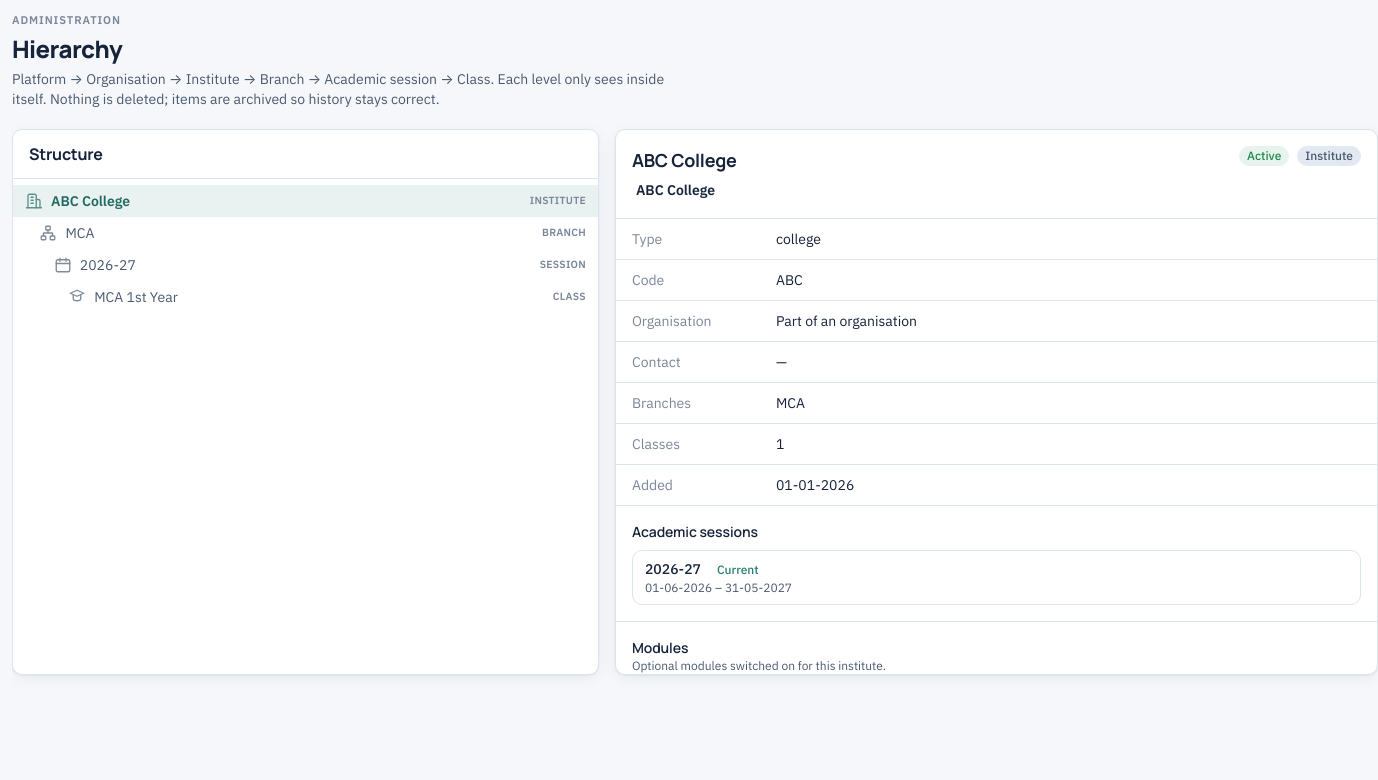
it: InstitutesPage › enrols a student in a class and shows them on the roster
Click the list item "MCA 1st Year Class". click: (136, 297)
box: [13,281,598,313]
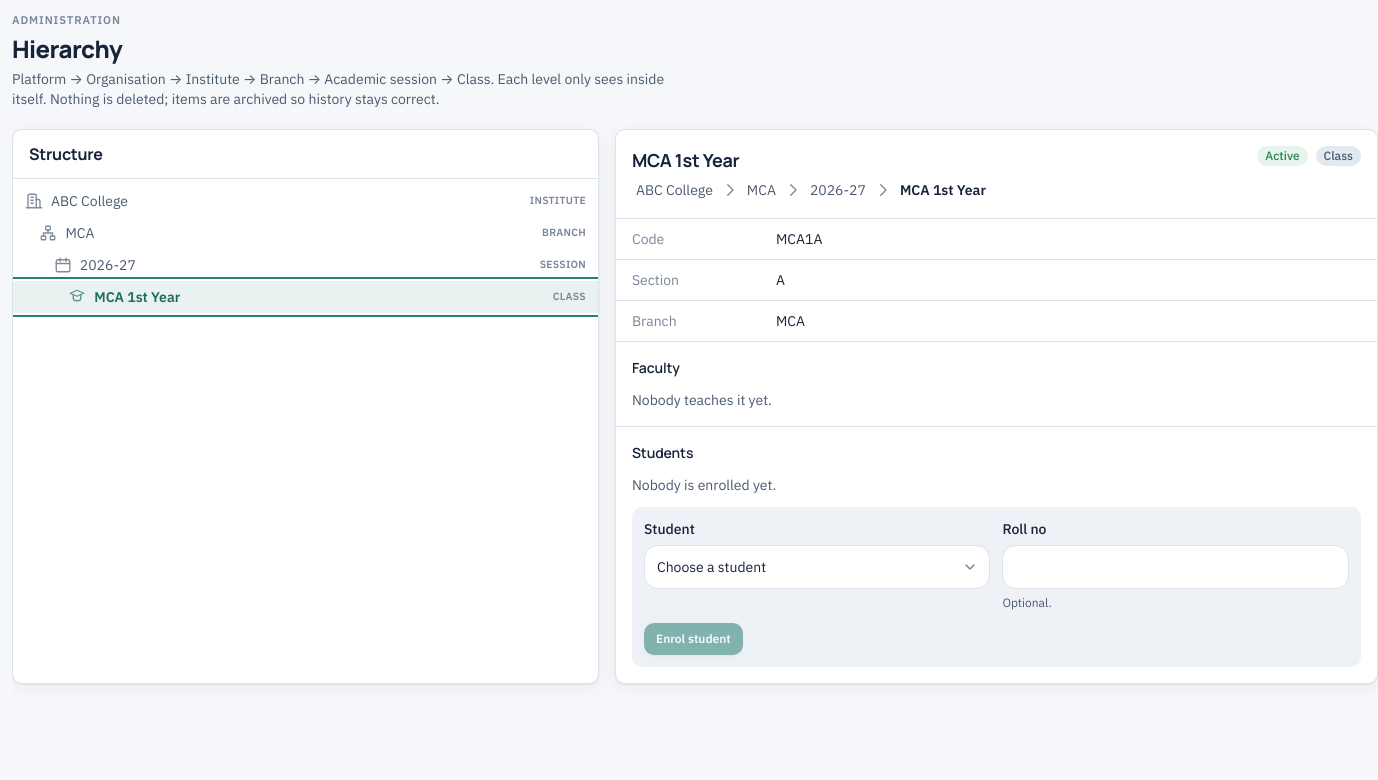
Result: the text "Nobody is enrolled yet." is shown at [632,476,776,494]
Select "Riya Sharma (riya@abc.example)" in the dropdown labelled "Student". click: (817, 567)
box: [644,545,990,589]
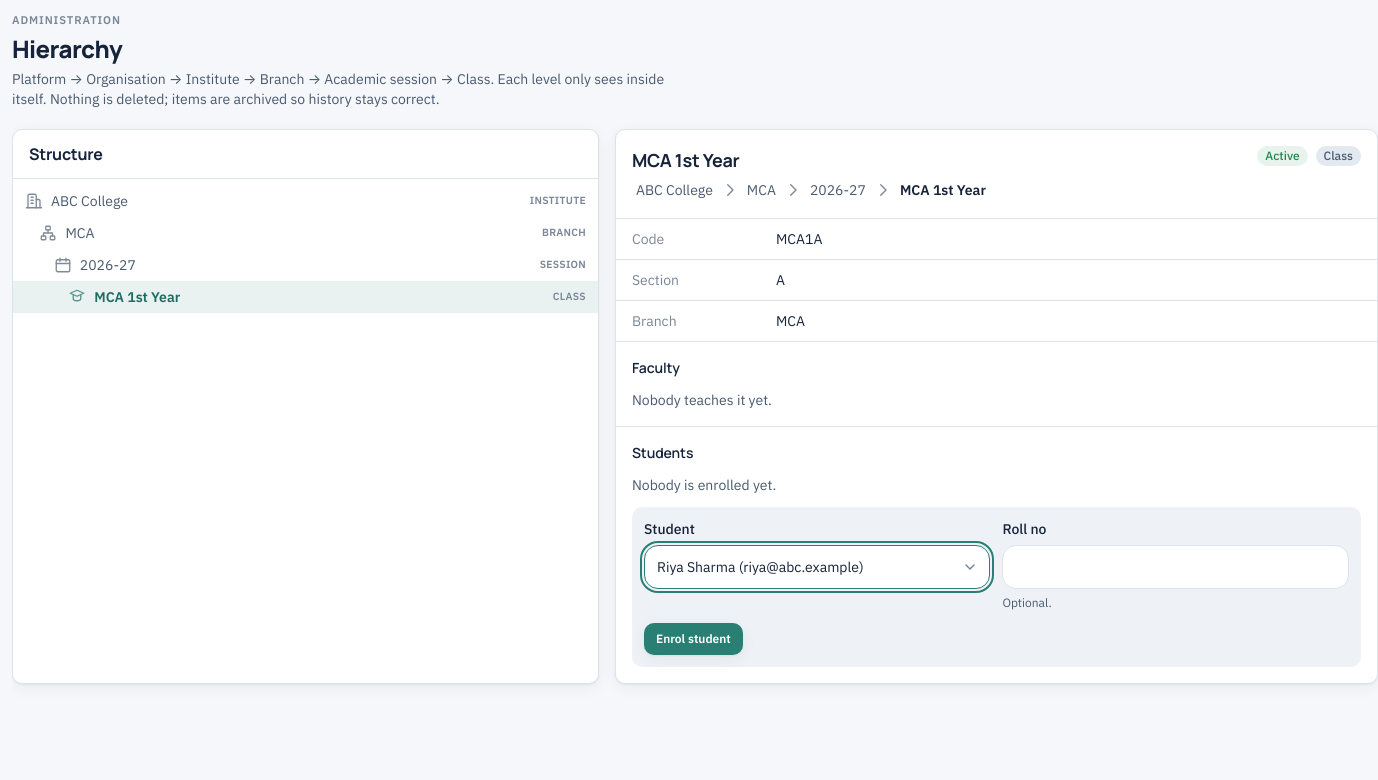
Type "7" into the field labelled "Roll no". click: (1176, 567)
box: [1002,545,1349,589]
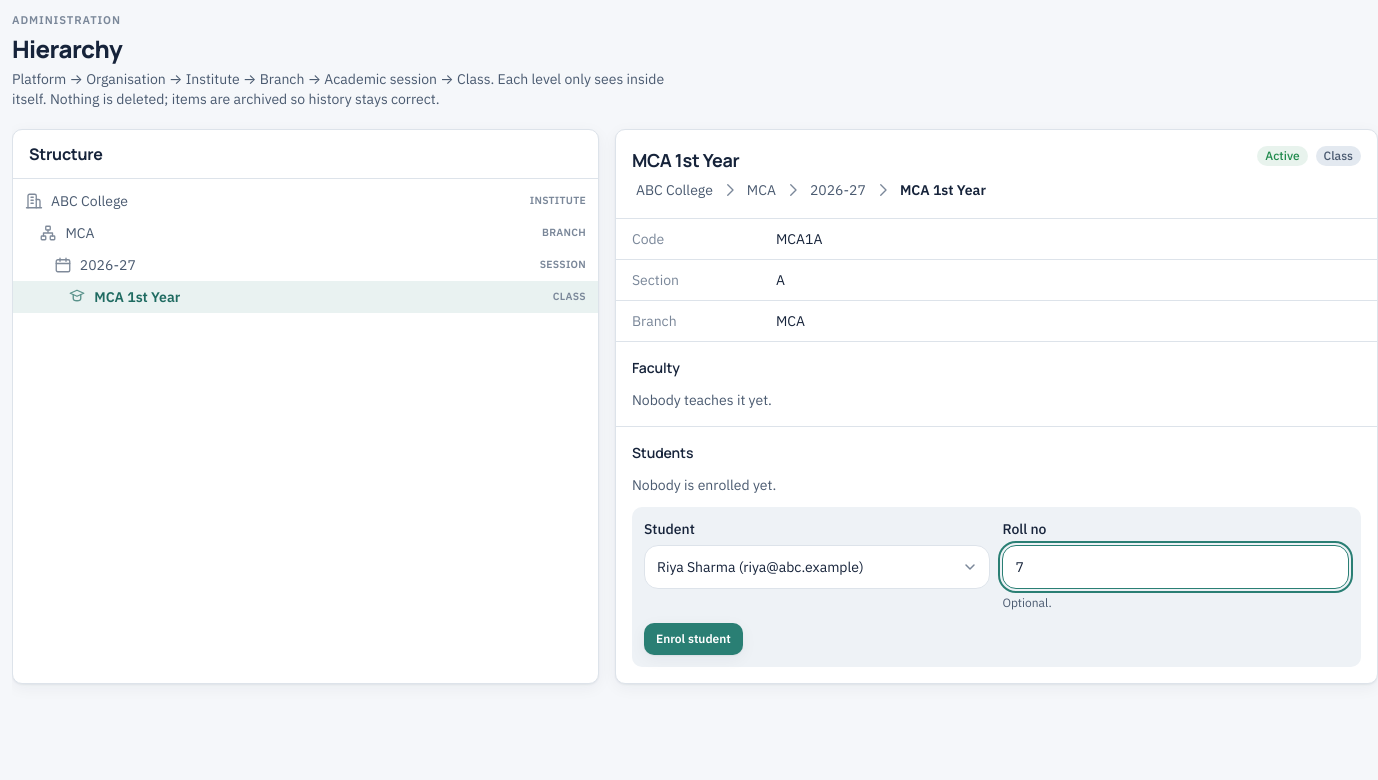
Click the button "Enrol student". click: (693, 639)
box: [644,623,743,655]
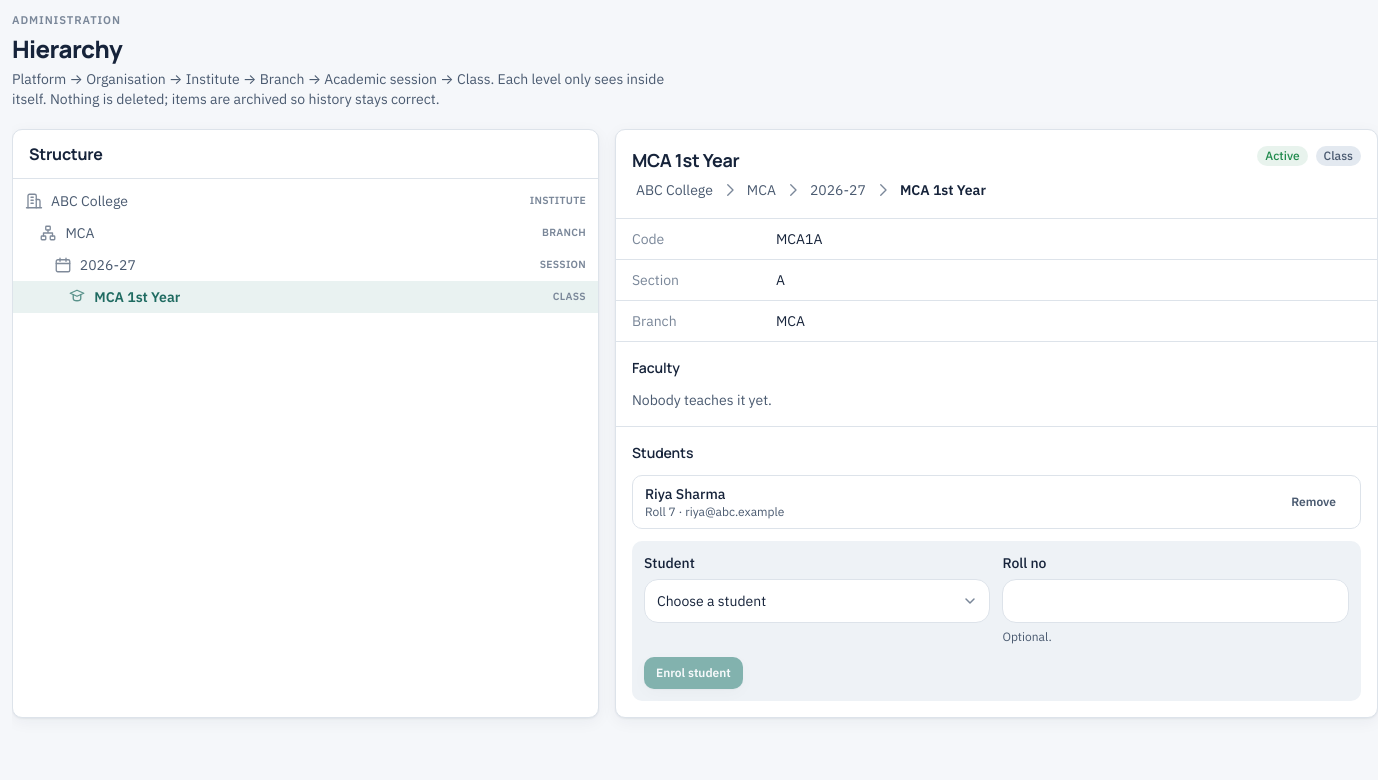
Result: the button with aria-label "Remove Riya Sharma" is shown at [1279,486,1348,518]
